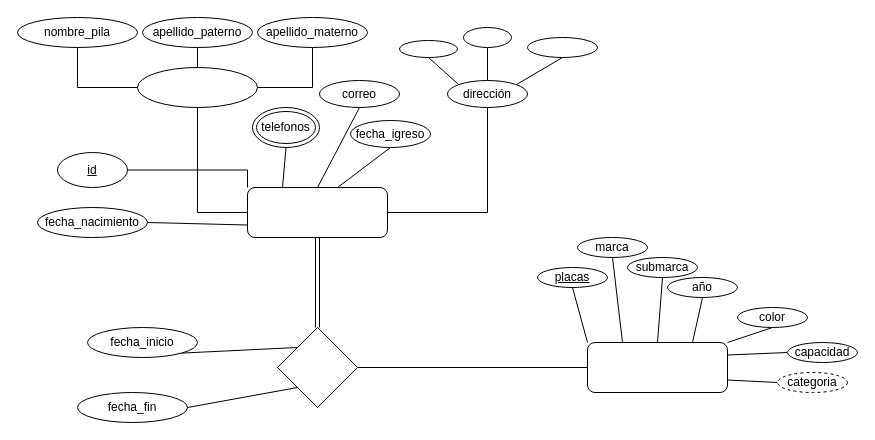
The diagram is 875 pixels wide and 440 high, and some of its shapes have lost their labels. The centre of each missing label's shape, as x and y in pixels:
"automovil" goes at point 657,367.
"calle" goes at point 428,49.
"chofer" goes at point 317,212.
"manejar" goes at point 317,367.
"municipio" goes at point 562,47.
"nombre" goes at point 197,87.
"numero" goes at point 487,37.
